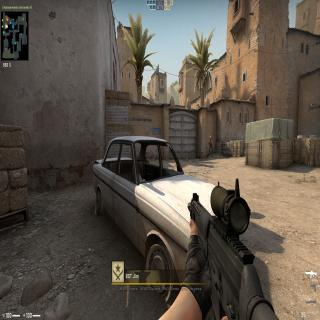T-Head: (210, 138, 212, 142)
